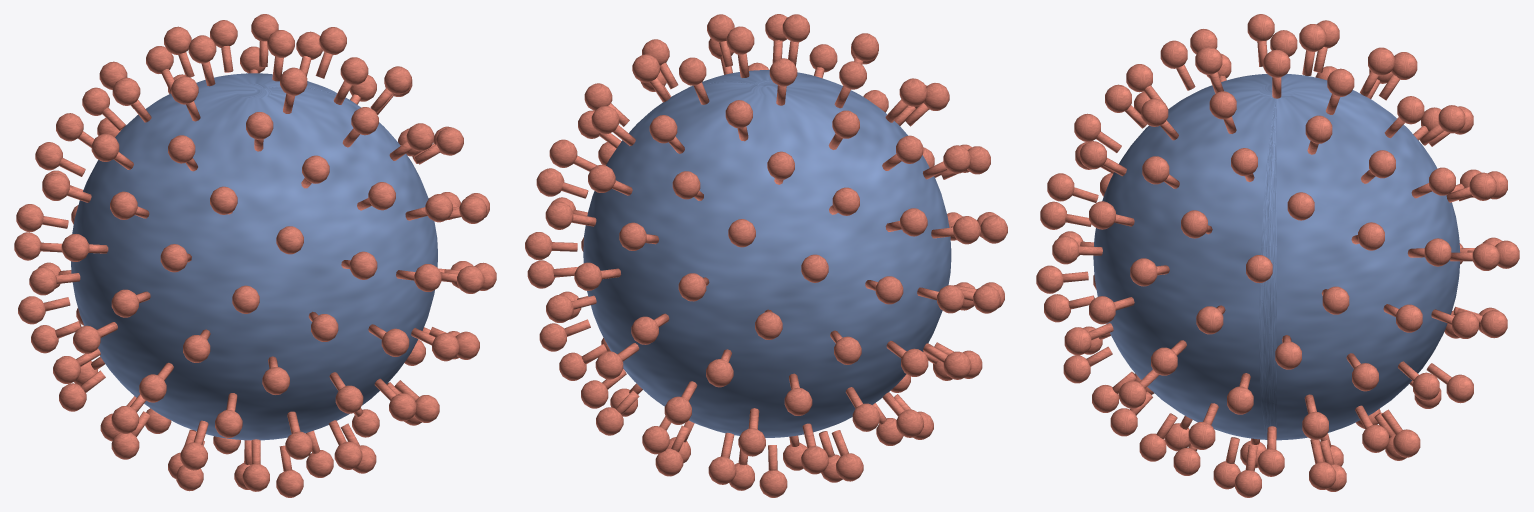
File: complete.glb
3 renders of one model, left to right at view 1: azimuth 30°, elevation 25°; view 2: azimuth 150°, elevation 25°; view 3: azimuth 270°, elevation 25°, orthographic.
Visible parts, largest first — view 1: envelope_mesh, espiculas_mesh; view 2: envelope_mesh, espiculas_mesh; view 3: envelope_mesh, espiculas_mesh.
Part boxes in pixels (x1,y1,x2,y2): envelope_mesh: (71, 73, 437, 440); espiculas_mesh: (14, 14, 496, 497); envelope_mesh: (583, 70, 951, 437); espiculas_mesh: (525, 14, 1007, 497); envelope_mesh: (1093, 74, 1460, 440); espiculas_mesh: (1036, 14, 1519, 497).
Bounding box in the file's own units: 2.64 × 2.63 × 2.63.
4 materials, 4 textured.
